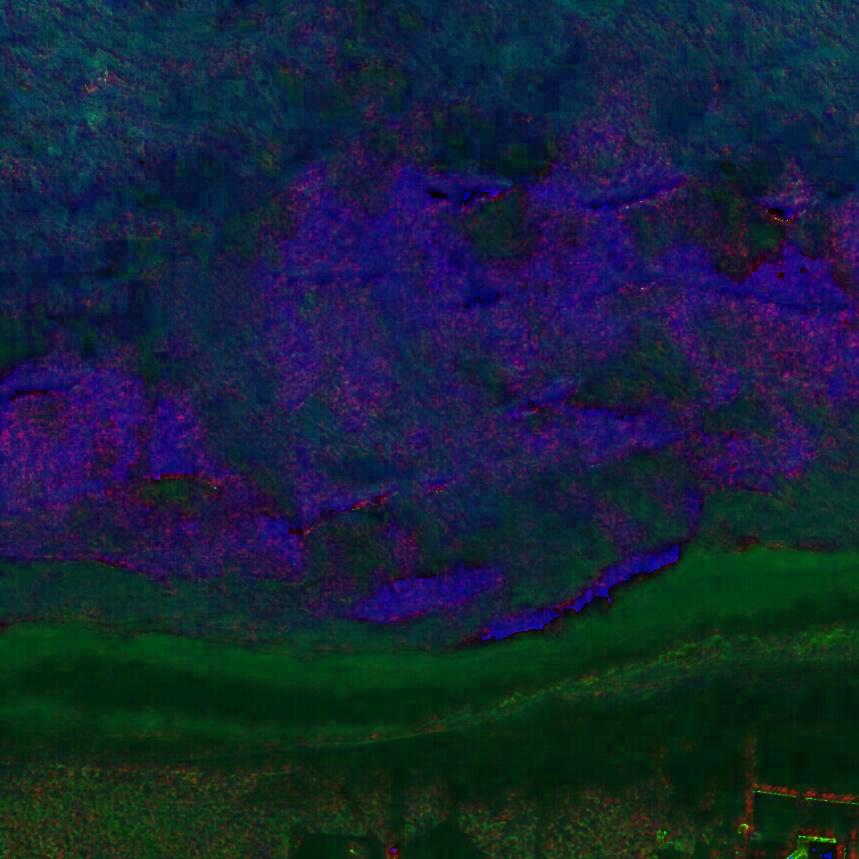rip_current: (145, 297, 593, 595)
